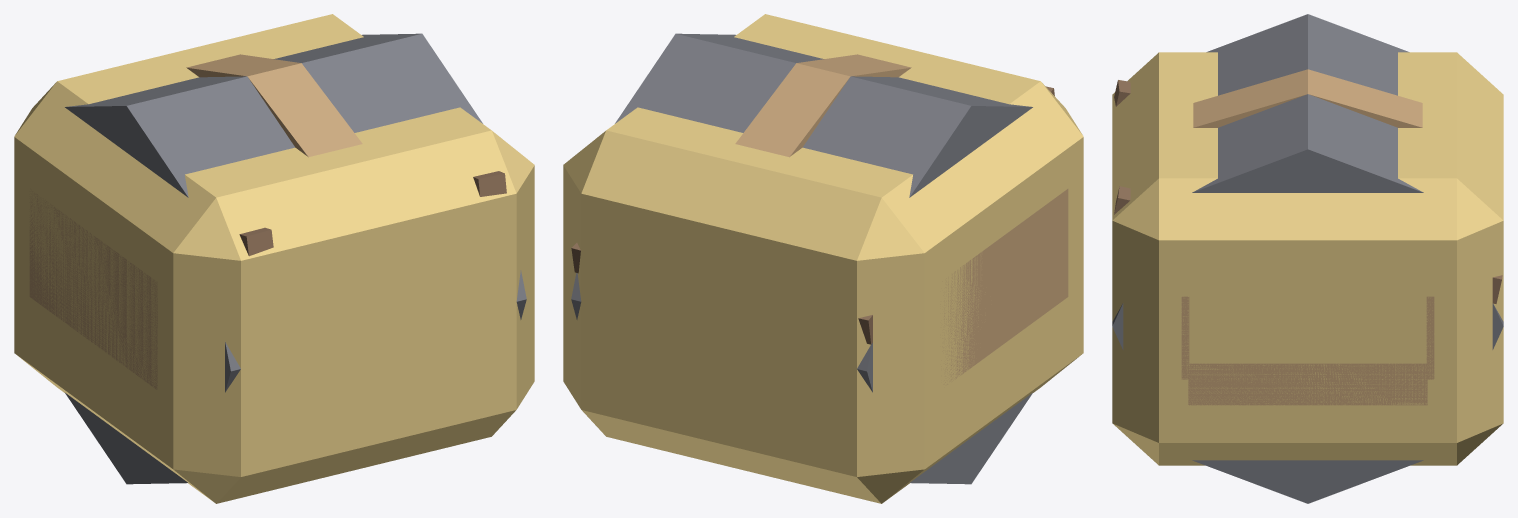
Rendered from town_hand_cart.glb.
3 views of the same model, side by side, from view 1: azimuth 30°, elevation 25°; view 2: azimuth 150°, elevation 25°; view 3: azimuth 270°, elevation 25° (orthographic). The views are drawn at different scales.
Parts seen in each view (by area): view 1: town_hand_cart_6, town_hand_cart_3, town_hand_cart_0, town_hand_cart_2, town_hand_cart_1; view 2: town_hand_cart_6, town_hand_cart_3, town_hand_cart_0, town_hand_cart_2; view 3: town_hand_cart_6, town_hand_cart_3, town_hand_cart_0, town_hand_cart_2, town_hand_cart_1.
Part boxes in pixels (x1=…): town_hand_cart_6: x1=14, y1=14, x2=534, y2=503; town_hand_cart_3: x1=65, y1=33, x2=526, y2=484; town_hand_cart_0: x1=29, y1=191, x2=157, y2=389; town_hand_cart_2: x1=186, y1=54, x2=362, y2=157; town_hand_cart_1: x1=239, y1=171, x2=506, y2=256; town_hand_cart_6: x1=563, y1=14, x2=1083, y2=503; town_hand_cart_3: x1=571, y1=33, x2=1032, y2=484; town_hand_cart_0: x1=940, y1=189, x2=1068, y2=384; town_hand_cart_2: x1=735, y1=54, x2=911, y2=157; town_hand_cart_6: x1=1112, y1=52, x2=1503, y2=465; town_hand_cart_3: x1=1112, y1=14, x2=1503, y2=503; town_hand_cart_0: x1=1181, y1=296, x2=1434, y2=405; town_hand_cart_2: x1=1193, y1=69, x2=1422, y2=127; town_hand_cart_1: x1=1114, y1=80, x2=1502, y2=303.
Bounding box in the file's own units: 2 × 2 × 2.
